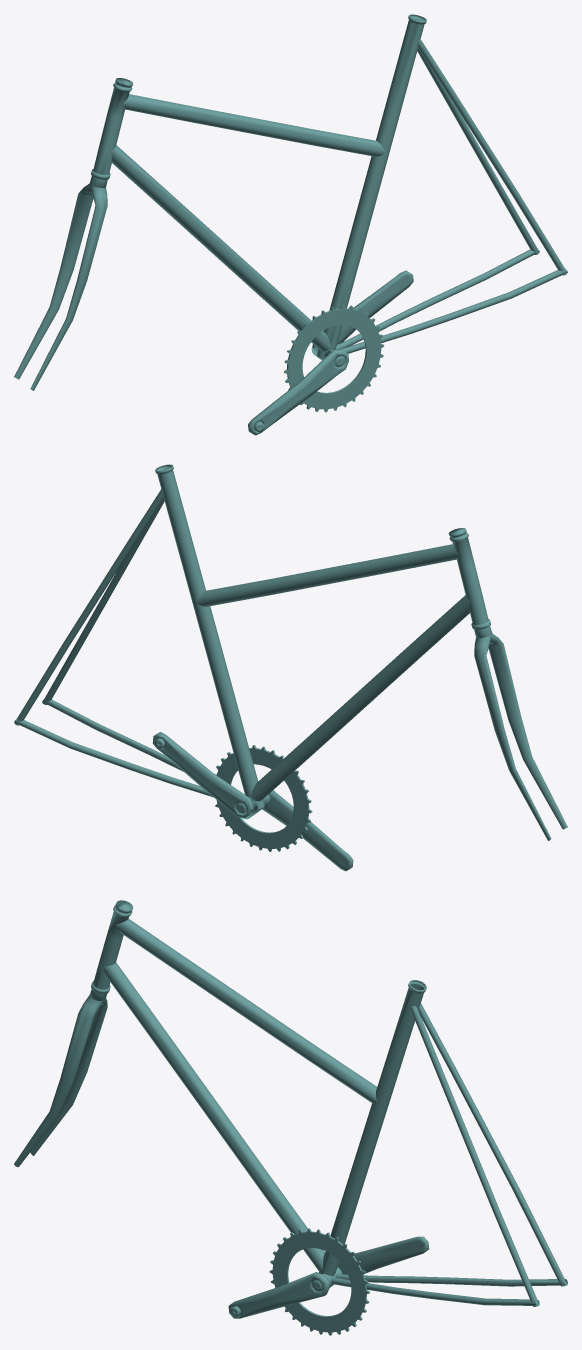
Rendered from frameLowTeal.gltf.
3 renders of one model, top to bottom at view 1: azimuth 30°, elevation 25°; view 2: azimuth 150°, elevation 25°; view 3: azimuth 330°, elevation 25°, orthographic.
Visible parts, largest first — view 1: FRAME; view 2: FRAME; view 3: FRAME.
Boxes of the visible parts, x1=… form: FRAME: x1=14, y1=14, x2=567, y2=435; FRAME: x1=14, y1=464, x2=567, y2=871; FRAME: x1=14, y1=900, x2=567, y2=1335.
Size of the model in its own units: 2.68 by 1.83 by 0.2766.
